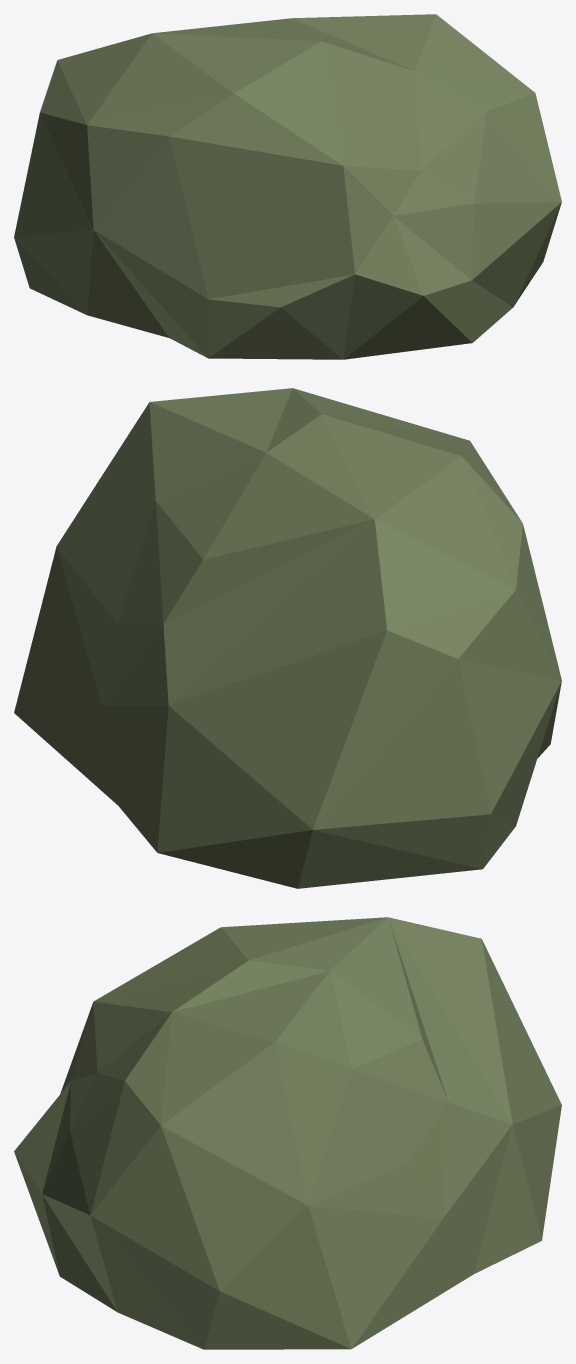
The model's file is Bush_1.fbx.
3 views of the same model, one above another, from view 1: azimuth 30°, elevation 25°; view 2: azimuth 150°, elevation 25°; view 3: azimuth 270°, elevation 25° (orthographic). The views are drawn at different scales.
Parts seen in each view (by area): view 1: pPlatonic1; view 2: pPlatonic1; view 3: pPlatonic1.
Part boxes in pixels (left/top/right/bottom): pPlatonic1: left=14, top=14, right=561, bottom=359; pPlatonic1: left=14, top=388, right=561, bottom=888; pPlatonic1: left=14, top=917, right=561, bottom=1349.
Bounding box in the file's own units: 3.97 × 2.24 × 3.97.
